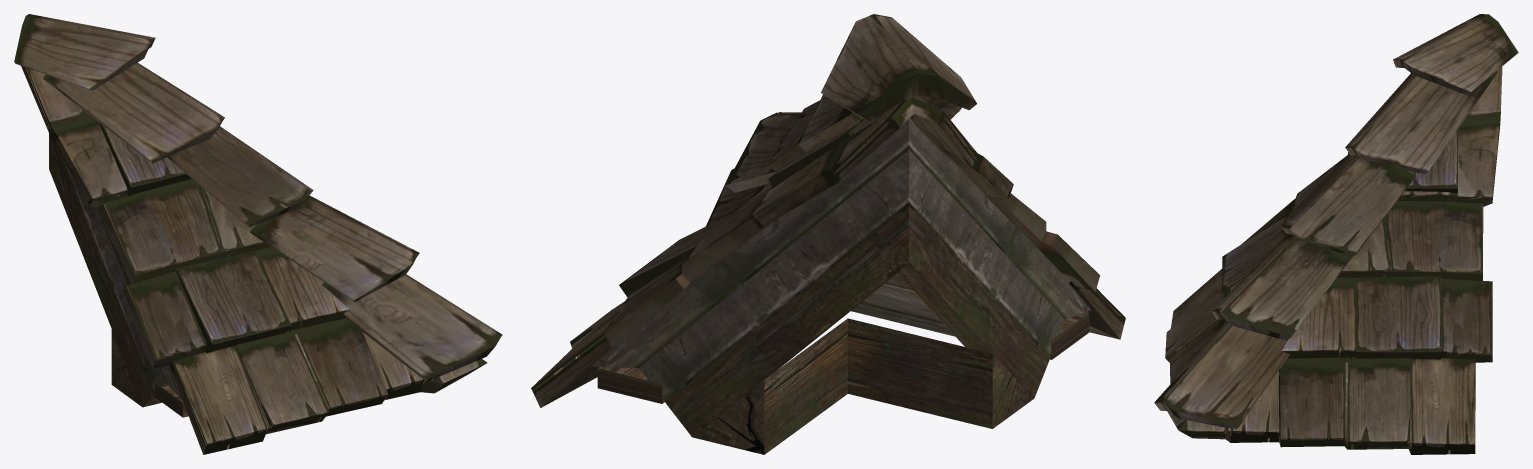
3 renders of one model, left to right at view 1: azimuth 30°, elevation 25°; view 2: azimuth 150°, elevation 25°; view 3: azimuth 270°, elevation 25°, orthographic. The views are drawn at different scales.
Visible parts, largest first — view 1: SM_T1_Roof_Small_Hip_LOD0; view 2: SM_T1_Roof_Small_Hip_LOD0; view 3: SM_T1_Roof_Small_Hip_LOD0.
Boxes of the visible parts, x1=… form: SM_T1_Roof_Small_Hip_LOD0: x1=14, y1=14, x2=502, y2=454; SM_T1_Roof_Small_Hip_LOD0: x1=531, y1=14, x2=1125, y2=454; SM_T1_Roof_Small_Hip_LOD0: x1=1154, y1=14, x2=1518, y2=454.
Bounding box in the file's own units: 1.56 × 1.45 × 1.56.
Materials: 3 (3 with a texture image).
